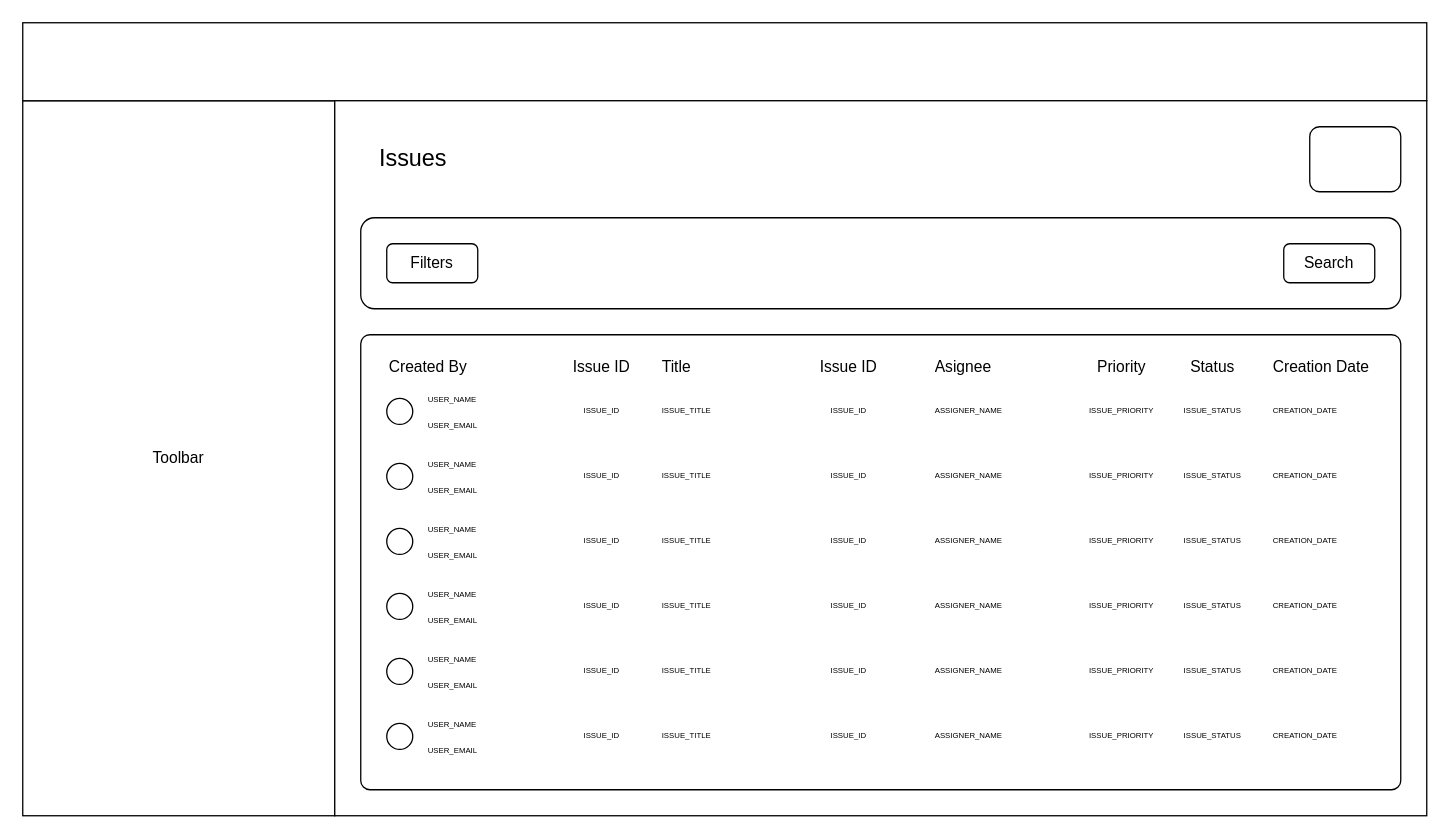
Some shapes in this 1450 by 838 pixel diagram are drawn without their labels. The box of each missing label's shape, as (x1, y1, x2, y2) in pixels:
Create Issue: (1308, 125, 1401, 192)
Navigation: (21, 21, 1427, 101)
